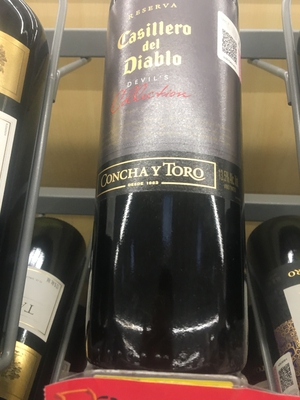casillero del diablo devils collection rojo: (102, 1, 243, 351)
